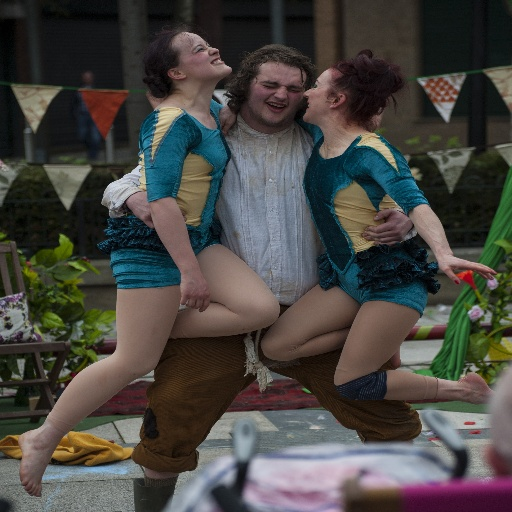hand: (124, 190, 188, 230), (359, 207, 415, 246), (435, 252, 493, 284), (178, 270, 212, 314)
